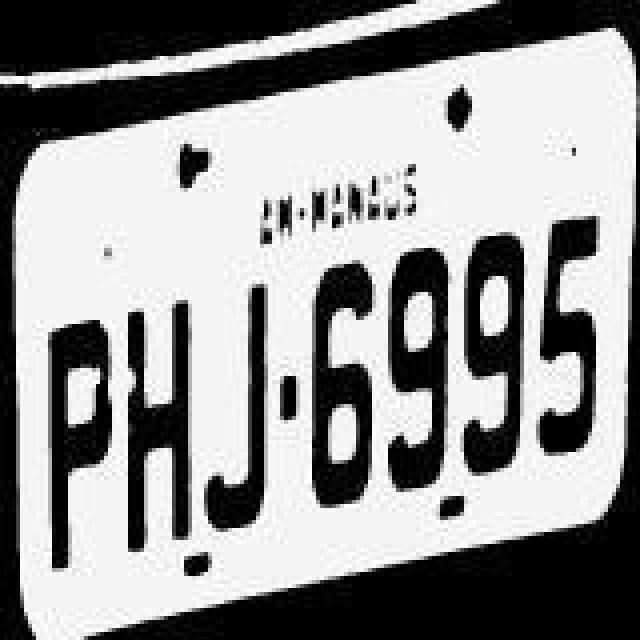5: (528, 216, 600, 480)
6: (310, 244, 378, 516)
9: (458, 228, 526, 476), (384, 246, 448, 490)
H: (120, 294, 200, 554)
J: (200, 280, 280, 536)
P: (44, 308, 116, 572)
